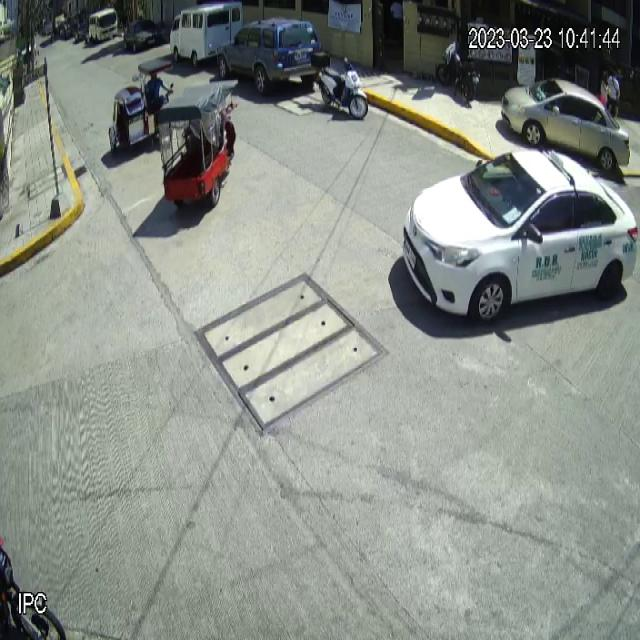Car: (402, 147, 638, 326), (501, 75, 632, 172), (216, 16, 323, 96)
Motorcycle: (311, 48, 369, 120)
Tricycle: (108, 57, 173, 155)
Van: (169, 0, 242, 69)
